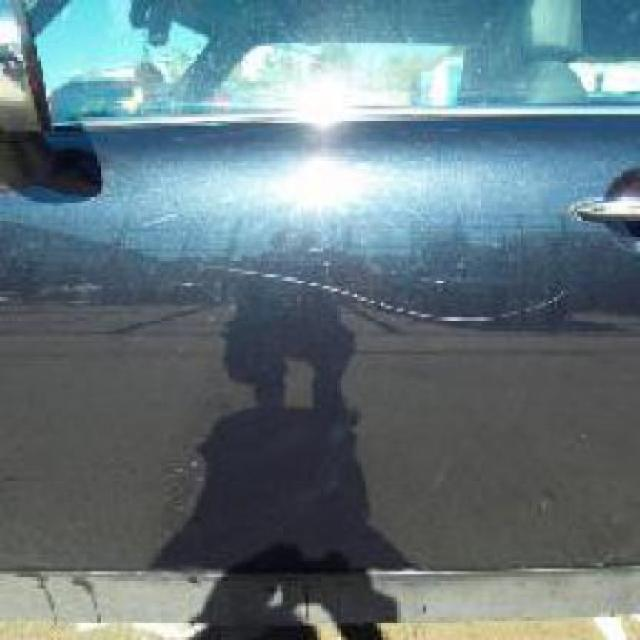dent-or-scratch: (211, 252, 594, 334)
